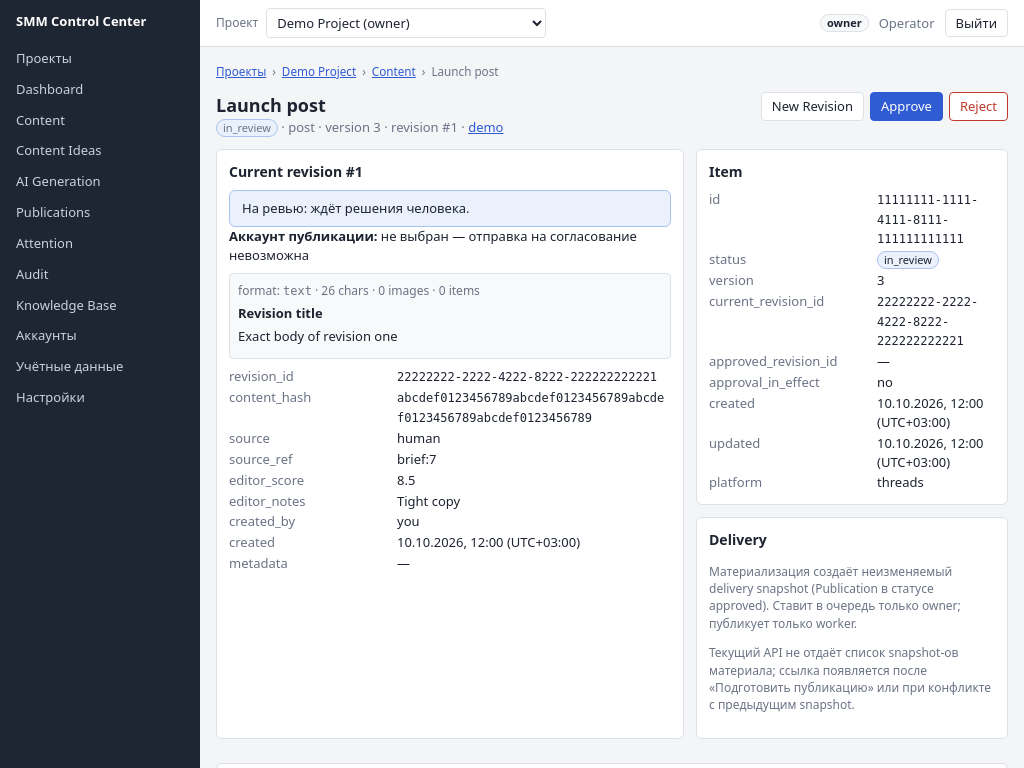
review decisions › a wrong step-up password approves nothing and keeps the session
This screenshot has width=1024, height=768.
Click the button "Approve": (906, 106) [870,92,943,121]
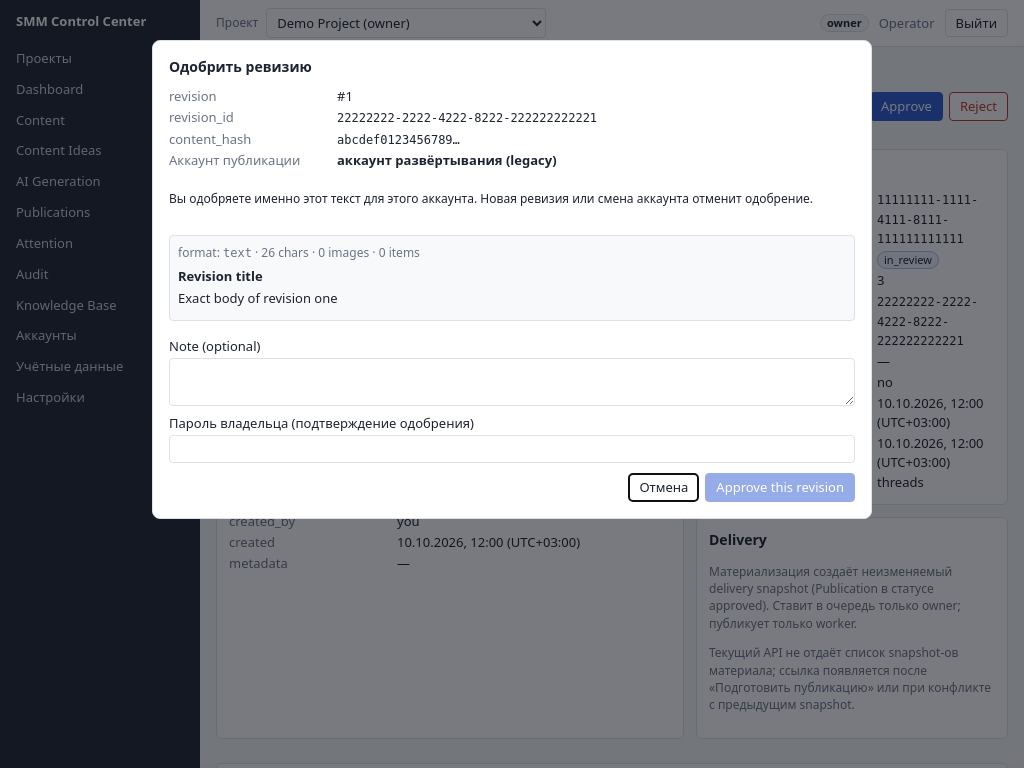
Expected: the text "Exact body of revision one" is shown, [178,289,338,307]
In the password field named "Password to confirm the approval": (512, 449) [169,435,855,463], type "wrong"
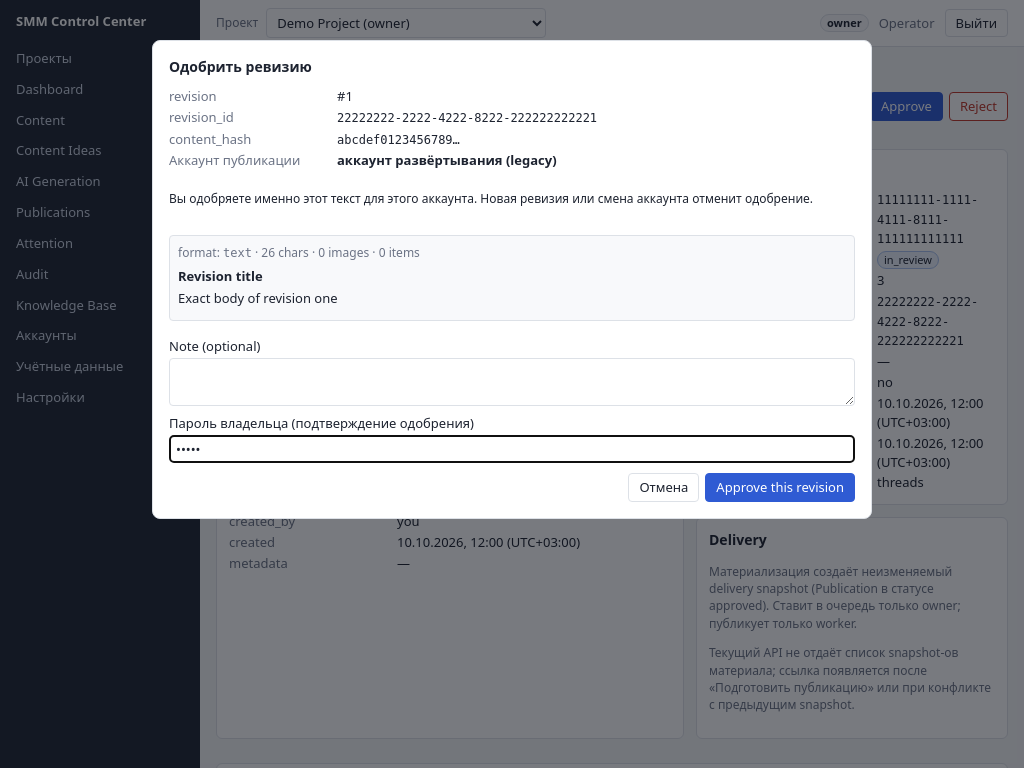
Click the button "Approve this revision": (780, 488) [705,474,855,502]
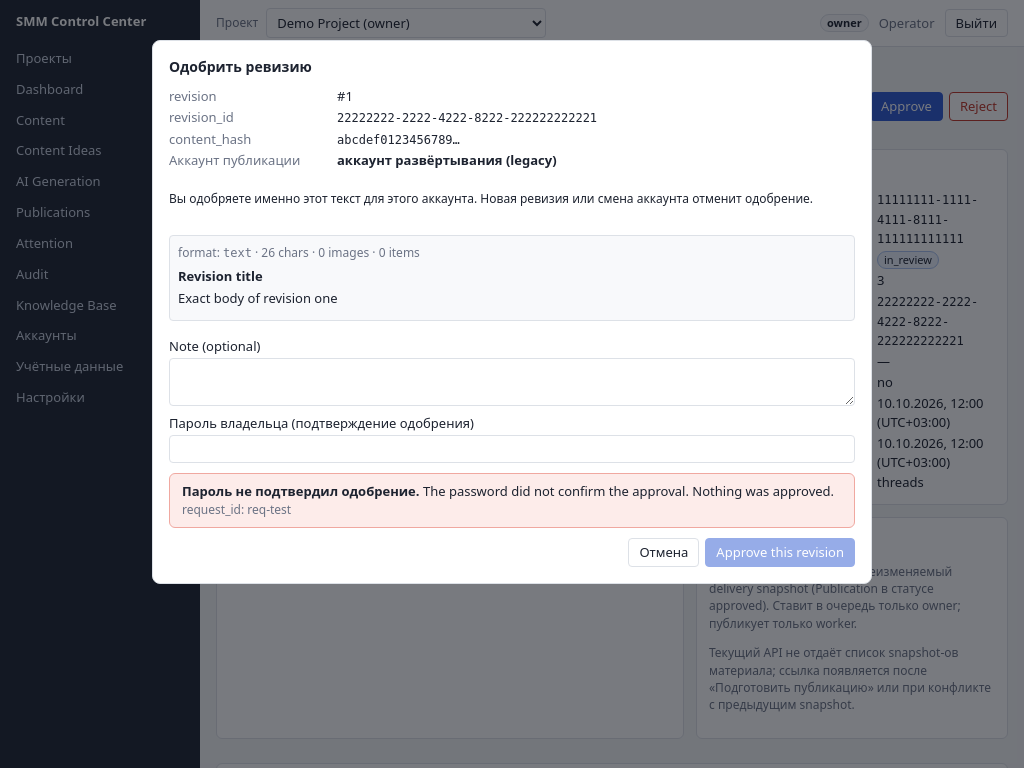
Expected: the heading "Launch post" is shown, [216,93,326,117]
Expected: the text "Пароль не подтвердил одобрение." is shown, [182,482,420,500]
Expected: the password field named "Password to confirm the approval" is empty, [169,435,855,463]
